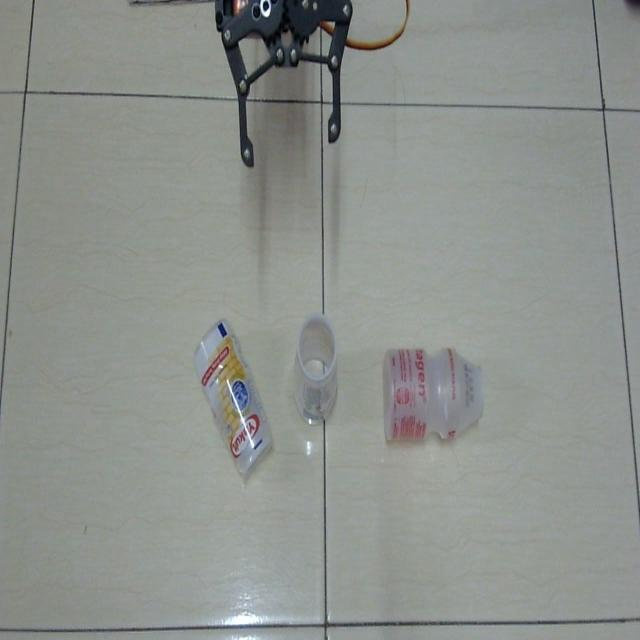Plastic-laydown_45left-rotation: (176, 315, 282, 489)
Plastic-laydown_90-rotation: (382, 338, 489, 458)
Plastic-stand-rotation: (286, 314, 343, 428)
